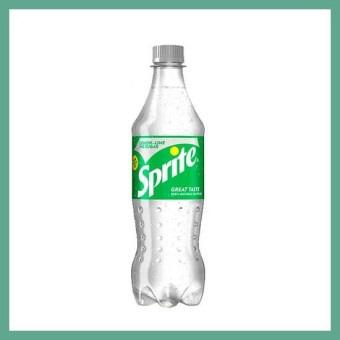sprite_zero: (120, 41, 214, 311)
